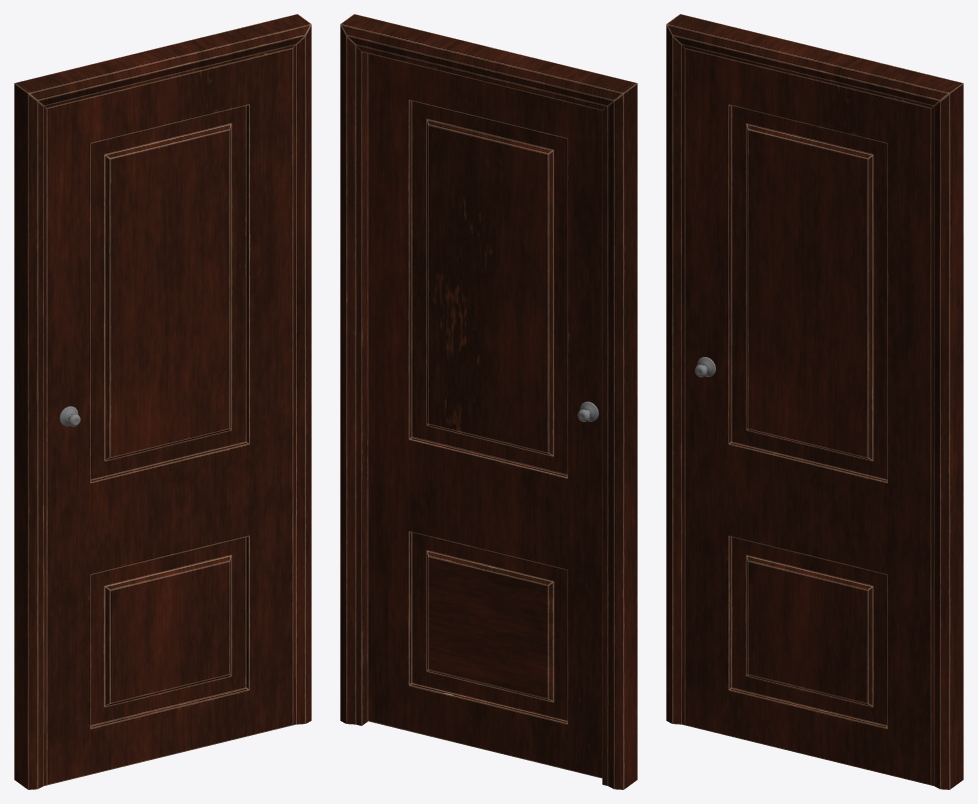
The model's file is door_wood.glb.
The picture shows the model from 3 angles, left to right: view 1: azimuth 30°, elevation 25°; view 2: azimuth 150°, elevation 25°; view 3: azimuth 330°, elevation 25°; orthographic projection.
Parts seen in each view (by area): view 1: Object_2; view 2: Object_2; view 3: Object_2.
Boxes of the visible parts, <box> form: Object_2: <box>14,14,311,789</box>; Object_2: <box>340,14,637,789</box>; Object_2: <box>666,14,963,789</box>.
Size of the model in its own units: 0.92 by 2.16 by 0.1311.
1 material, 1 textured.
